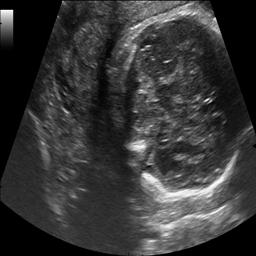normal: (118, 9, 243, 202)
